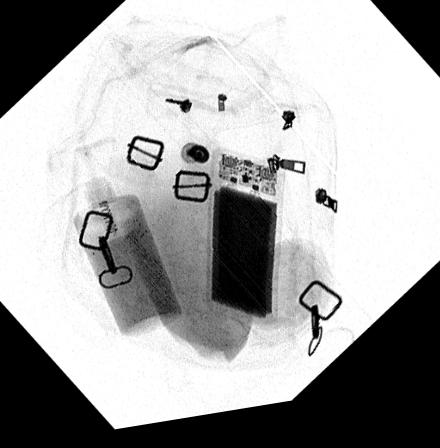Powerbank: (207, 152, 284, 330)
